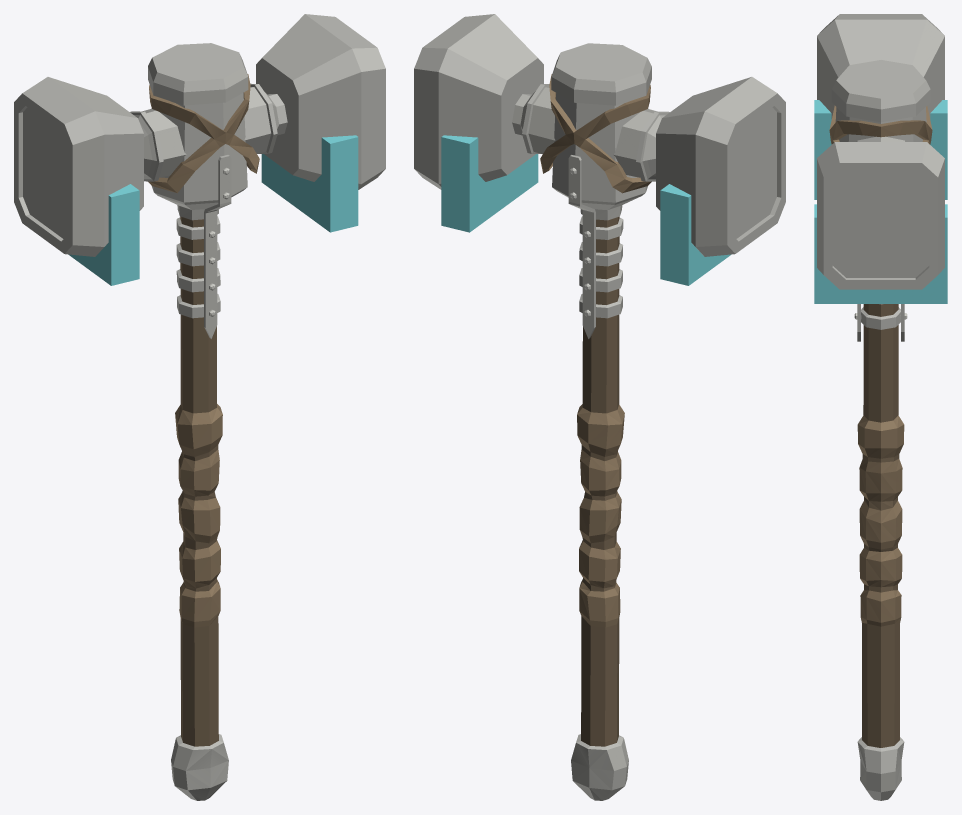
File: mazo_piedra.glb
3 renders of one model, left to right at view 1: azimuth 30°, elevation 25°; view 2: azimuth 150°, elevation 25°; view 3: azimuth 270°, elevation 25°, orthographic. The views are drawn at different scales.
Parts seen in each view (by area): view 1: mazo_piedra; view 2: mazo_piedra; view 3: mazo_piedra.
Boxes of the visible parts, left/top/right/bottom form: mazo_piedra: left=14, top=14, right=385, bottom=800; mazo_piedra: left=414, top=14, right=785, bottom=800; mazo_piedra: left=814, top=14, right=947, bottom=800.
Bounding box in the file's own units: 2.22 × 4.97 × 0.84.
